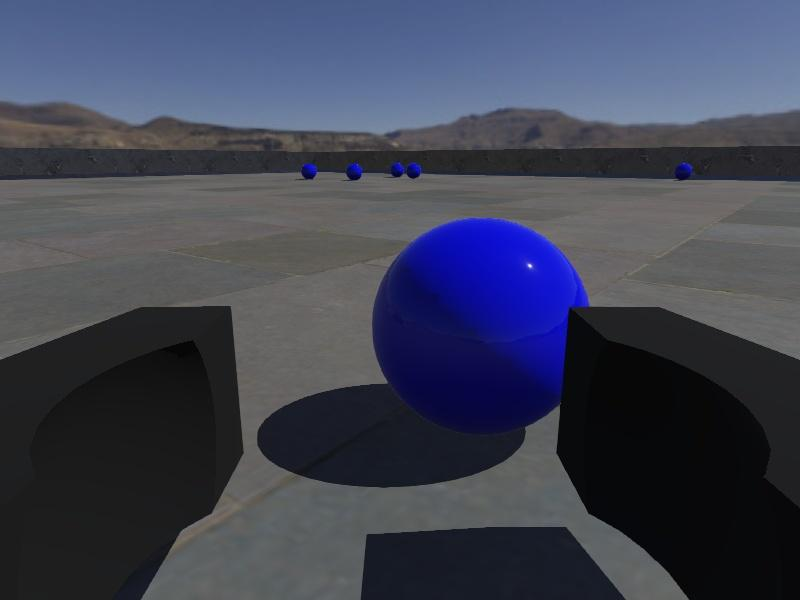blue ball: (672, 161, 694, 182), (345, 162, 364, 181), (388, 160, 407, 178), (405, 161, 422, 180), (300, 162, 318, 178)
